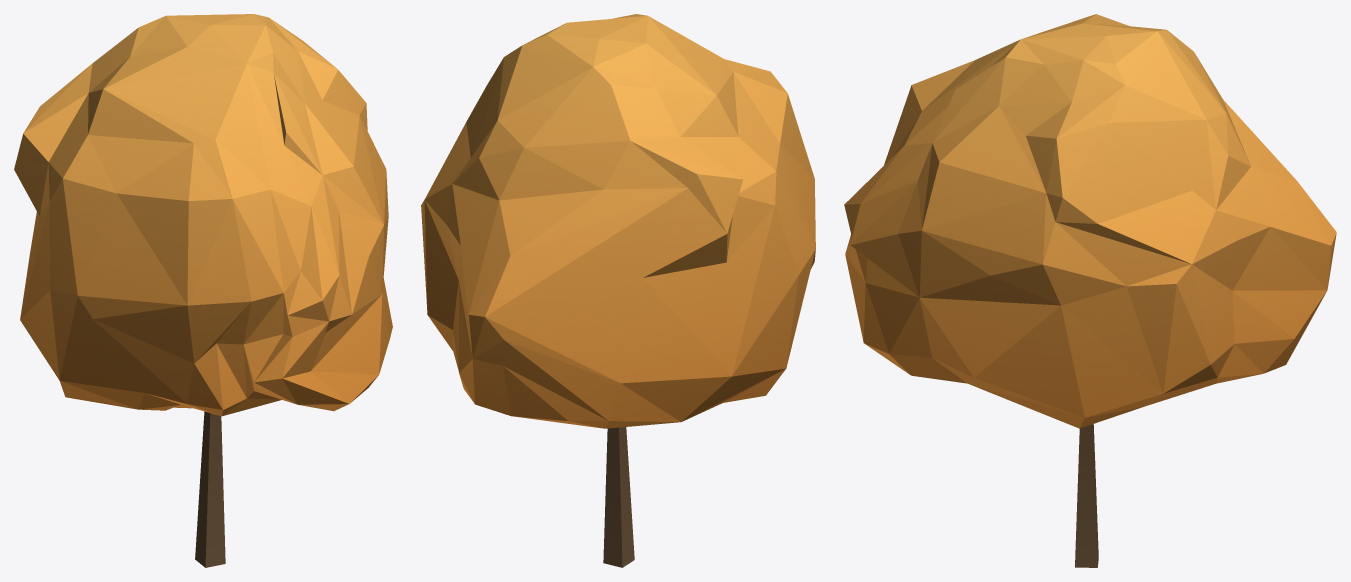
File: extra-large-tree-4.glb
3 views of the same model, side by side, from view 1: azimuth 30°, elevation 25°; view 2: azimuth 150°, elevation 25°; view 3: azimuth 270°, elevation 25° (orthographic).
Visible parts, largest first — view 1: extra-large-tree-4; view 2: extra-large-tree-4; view 3: extra-large-tree-4.
Boxes of the visible parts, x1,y1,x2,y2 form: extra-large-tree-4: (14, 14, 392, 567); extra-large-tree-4: (421, 14, 815, 567); extra-large-tree-4: (844, 14, 1336, 567).
Size of the model in its own units: 0.426 by 0.6623 by 0.556.
1 material, 1 textured.
